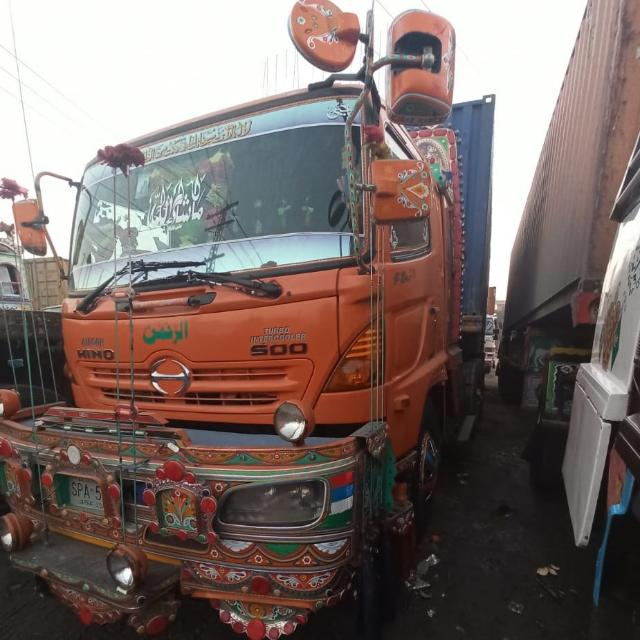plate: (49, 471, 111, 522)
